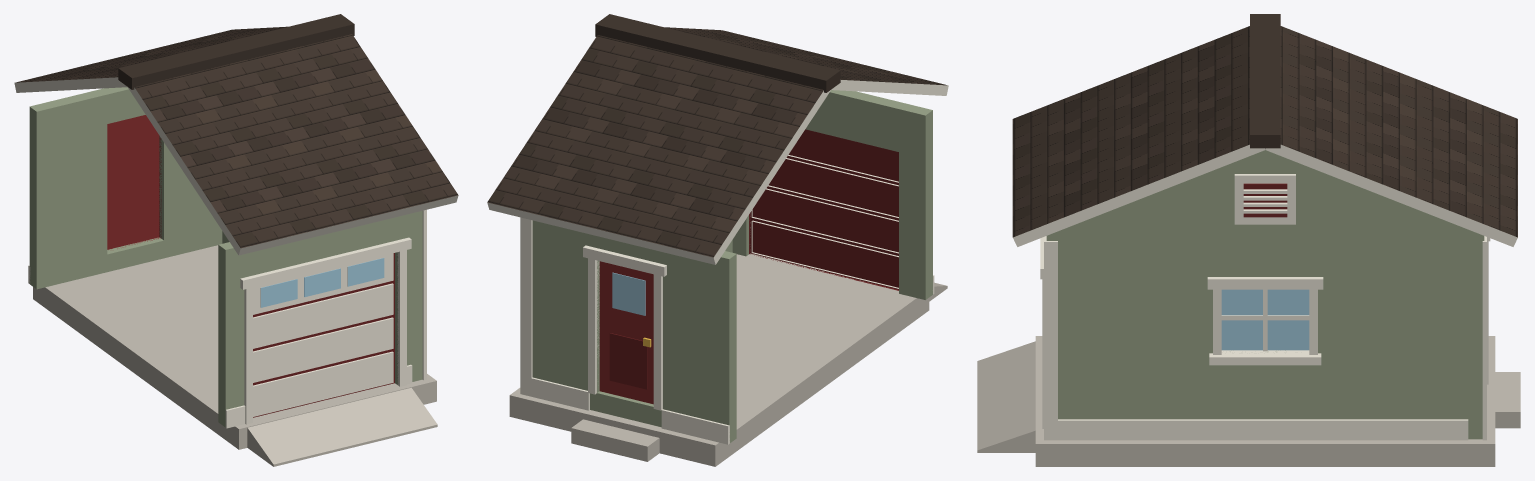
Rendered from piece-garage.glb.
The picture shows the model from 3 angles, left to right: view 1: azimuth 30°, elevation 25°; view 2: azimuth 150°, elevation 25°; view 3: azimuth 270°, elevation 25°; orthographic projection. The views are drawn at different scales.
Parts seen in each view (by area): view 1: piece_garage; view 2: piece_garage; view 3: piece_garage.
Part boxes in pixels (x1,y1,x2,y2): piece_garage: [14, 14, 458, 466]; piece_garage: [487, 14, 948, 466]; piece_garage: [977, 14, 1520, 466].
Bounding box in the file's own units: 3.93 × 5.13 × 7.45.
9 materials, 1 textured.
